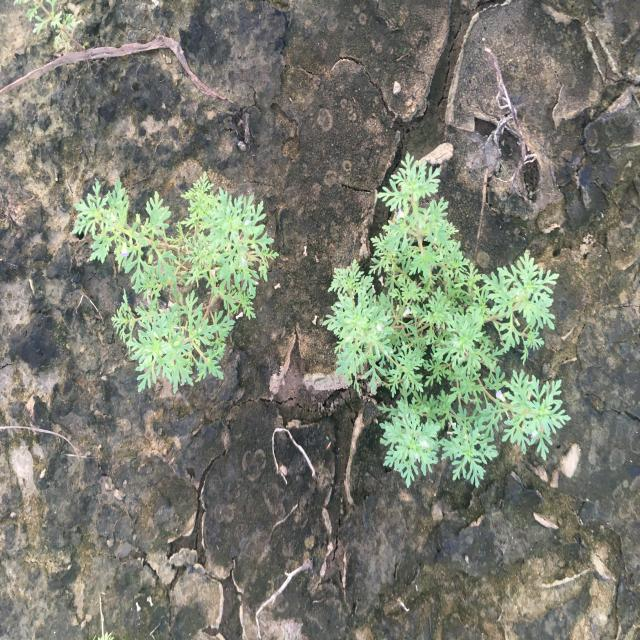Ragweed: (320, 148, 572, 490), (68, 170, 280, 397)
